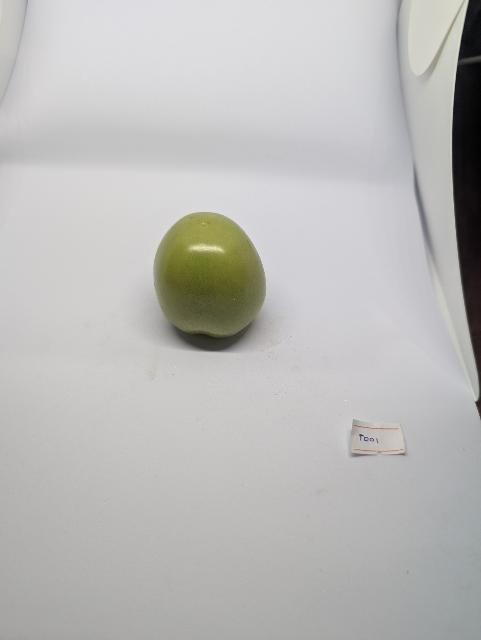green: (151, 210, 268, 339)
